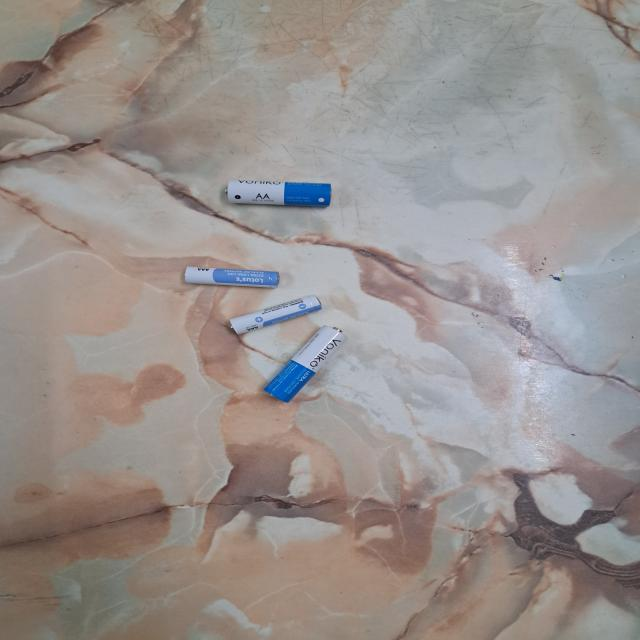battery: (262, 324, 348, 404), (228, 294, 324, 337), (223, 177, 333, 209), (183, 265, 281, 290)
